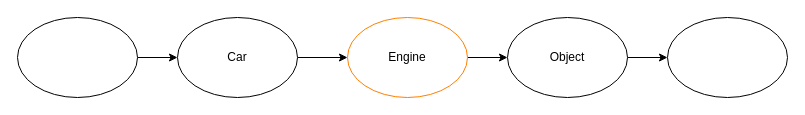
Image size: 805x115. Some labels were removed from this diagram. The shapes that lost their labels are listed below. From the top down, each one's centre as x and y in pixels, then its label:
At pixel 77 57: "Honda".
At pixel 727 57: "BasicObject".
